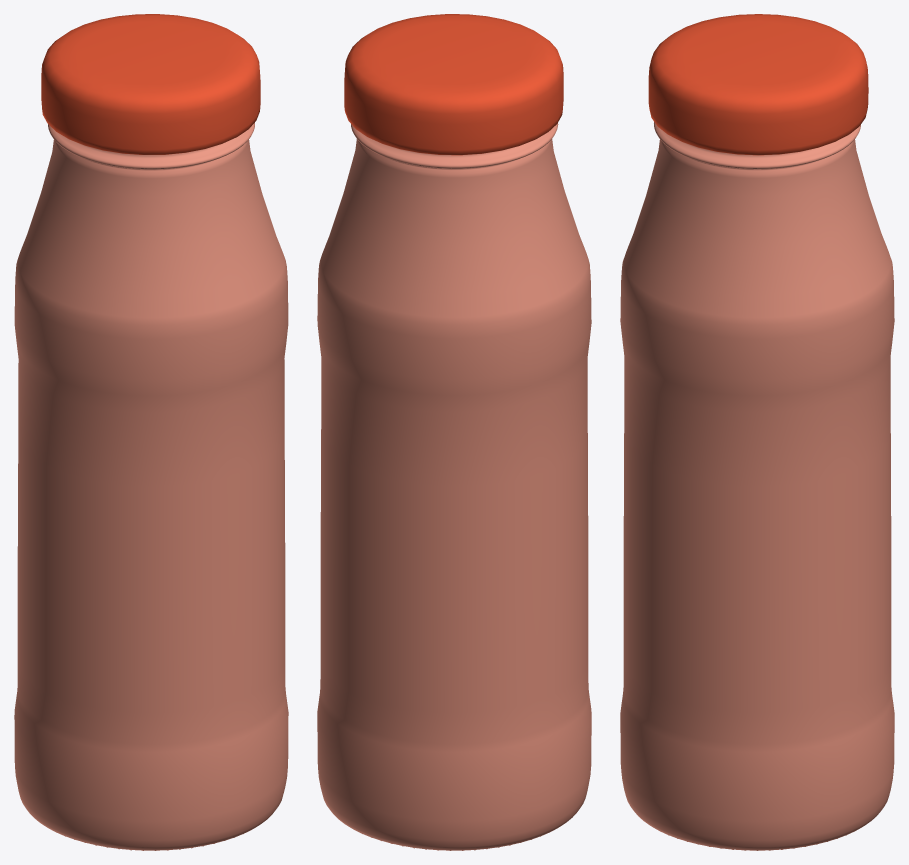
File: PlasticB.glb
The picture shows the model from 3 angles, left to right: view 1: azimuth 30°, elevation 25°; view 2: azimuth 150°, elevation 25°; view 3: azimuth 270°, elevation 25°; orthographic projection.
Parts seen in each view (by area): view 1: Circle.023, Circle.022; view 2: Circle.023, Circle.022; view 3: Circle.023, Circle.022.
Part boxes in pixels (x1=…): Circle.023: x1=14, y1=123, x2=288, y2=850; Circle.022: x1=41, y1=14, x2=260, y2=154; Circle.023: x1=317, y1=123, x2=591, y2=850; Circle.022: x1=344, y1=14, x2=563, y2=155; Circle.023: x1=620, y1=122, x2=894, y2=850; Circle.022: x1=648, y1=14, x2=868, y2=155.
Size of the model in its own units: 0.011 by 0.033 by 0.011.
